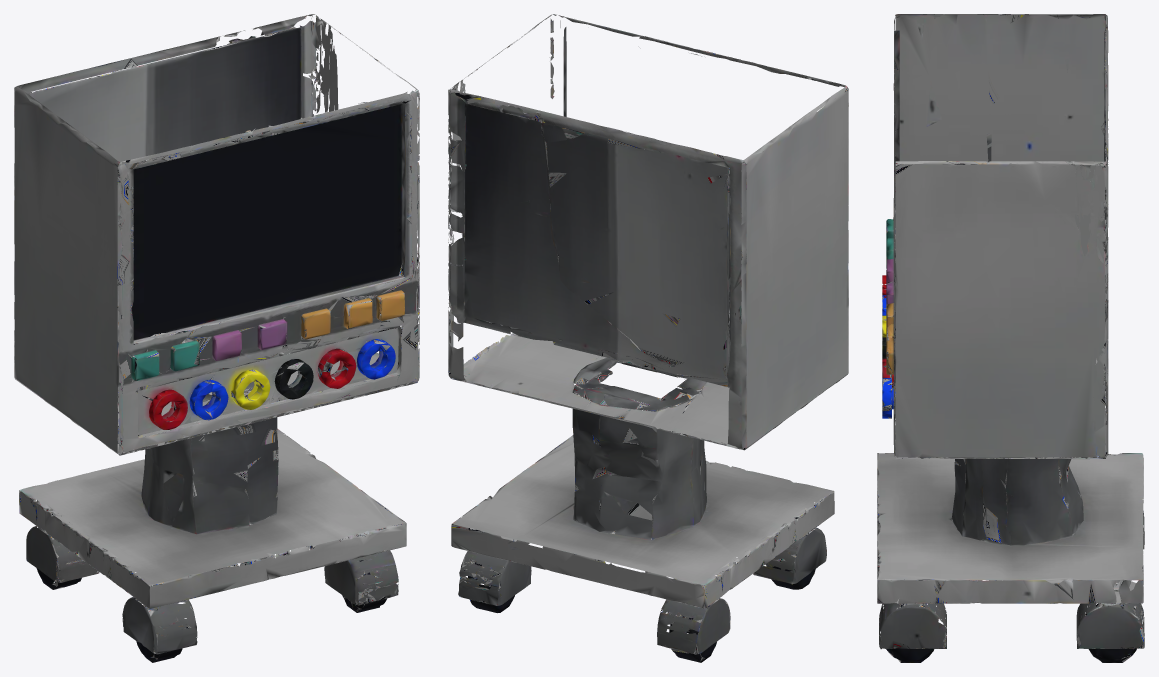
The model's file is ecg-cart.glb.
The picture shows the model from 3 angles, left to right: view 1: azimuth 30°, elevation 25°; view 2: azimuth 150°, elevation 25°; view 3: azimuth 270°, elevation 25°; orthographic projection. The views are drawn at different scales.
Parts seen in each view (by area): view 1: world; view 2: world; view 3: world.
Part boxes in pixels (bbox=[...]): world: bbox=[14, 14, 419, 662]; world: bbox=[448, 14, 848, 662]; world: bbox=[877, 14, 1144, 662].
Size of the model in its own units: 0.6178 by 1 by 0.4667.
Materials: 1 (1 with a texture image).
